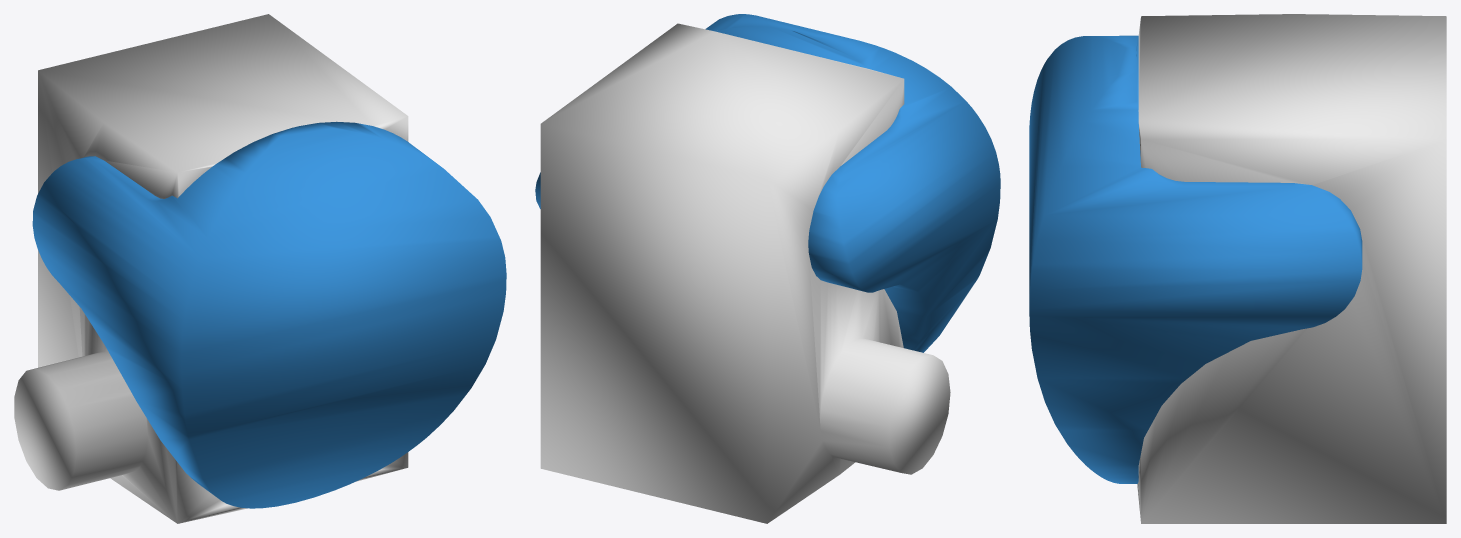
File: R_SHOULDER_R.dae
3 views of the same model, side by side, from view 1: azimuth 30°, elevation 25°; view 2: azimuth 150°, elevation 25°; view 3: azimuth 270°, elevation 25° (orthographic). The views are drawn at different scales.
Visible parts, largest first — view 1: ShapeIndexedFaceS_120, ShapeIndexedFaceS_119; view 2: ShapeIndexedFaceS_119, ShapeIndexedFaceS_120; view 3: ShapeIndexedFaceS_119, ShapeIndexedFaceS_120.
Boxes of the visible parts, x1,y1,x2,y2 form: ShapeIndexedFaceS_120: [32, 121, 506, 508]; ShapeIndexedFaceS_119: [14, 14, 408, 523]; ShapeIndexedFaceS_119: [540, 23, 950, 523]; ShapeIndexedFaceS_120: [535, 14, 1000, 352]; ShapeIndexedFaceS_119: [1137, 14, 1446, 523]; ShapeIndexedFaceS_120: [1029, 35, 1362, 483].
Bounding box in the file's own units: 0.0975 × 0.0915 × 0.0994.
